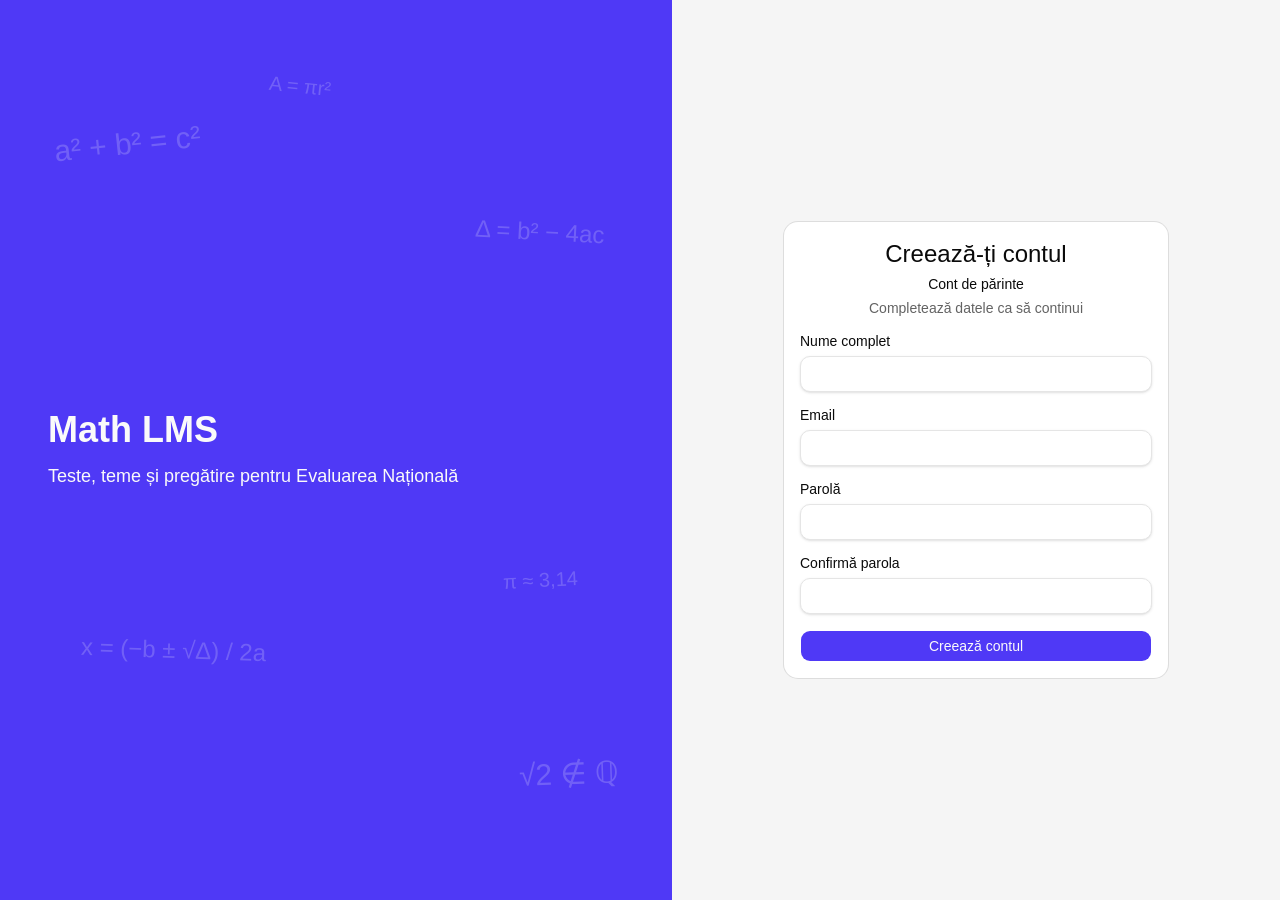
Test: RegisterPage › tells a newcomer through a role link that the teacher still approves
Expected: the text with test id "invite-headline" reads "Cont de părinte", [928, 276, 1024, 292]
Type "Ana Pop" into the field labelled "Nume complet" at (976, 374), box [800, 356, 1152, 392]
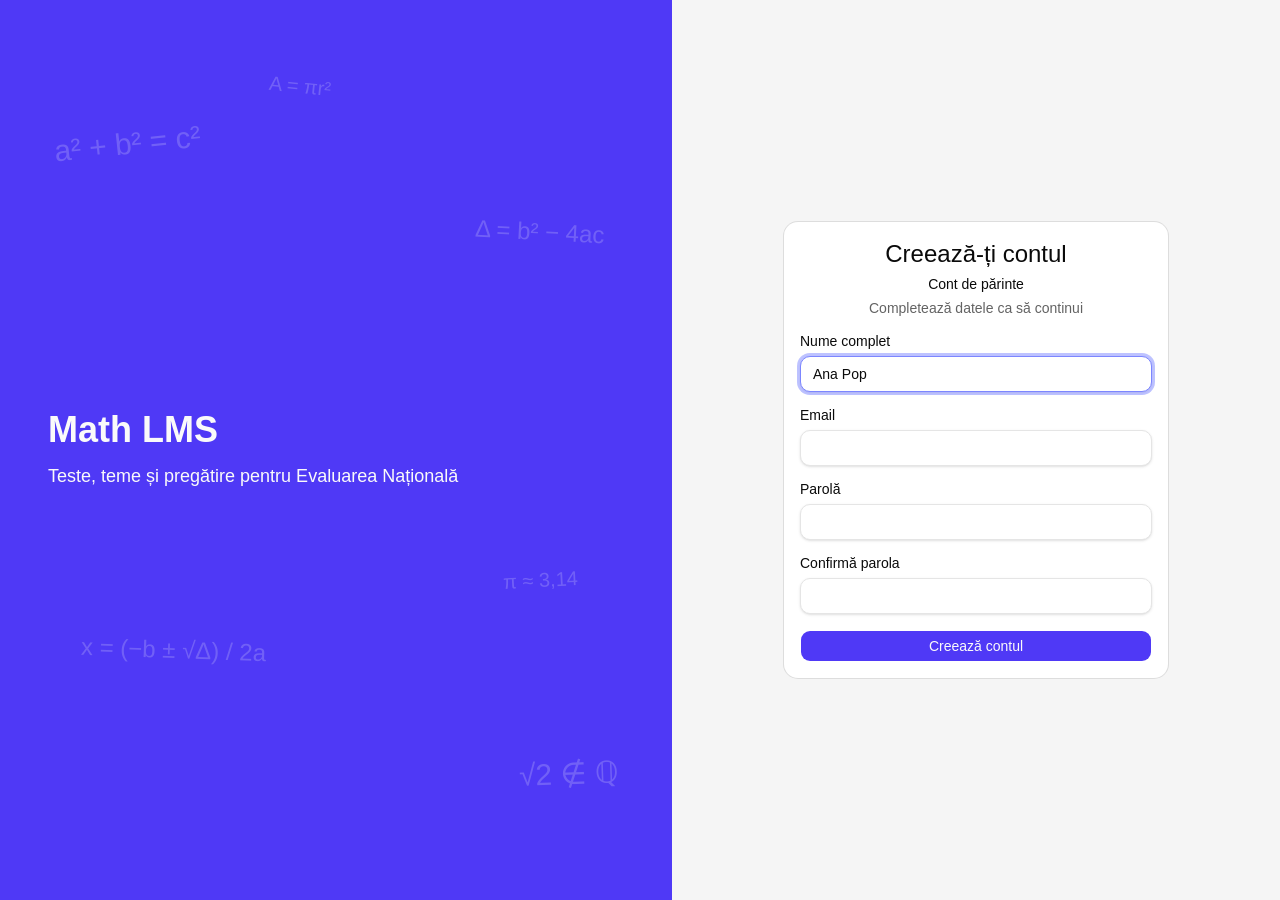
Type "ana@scoala.ro" into the field labelled "Email" at (976, 448), box [800, 430, 1152, 466]
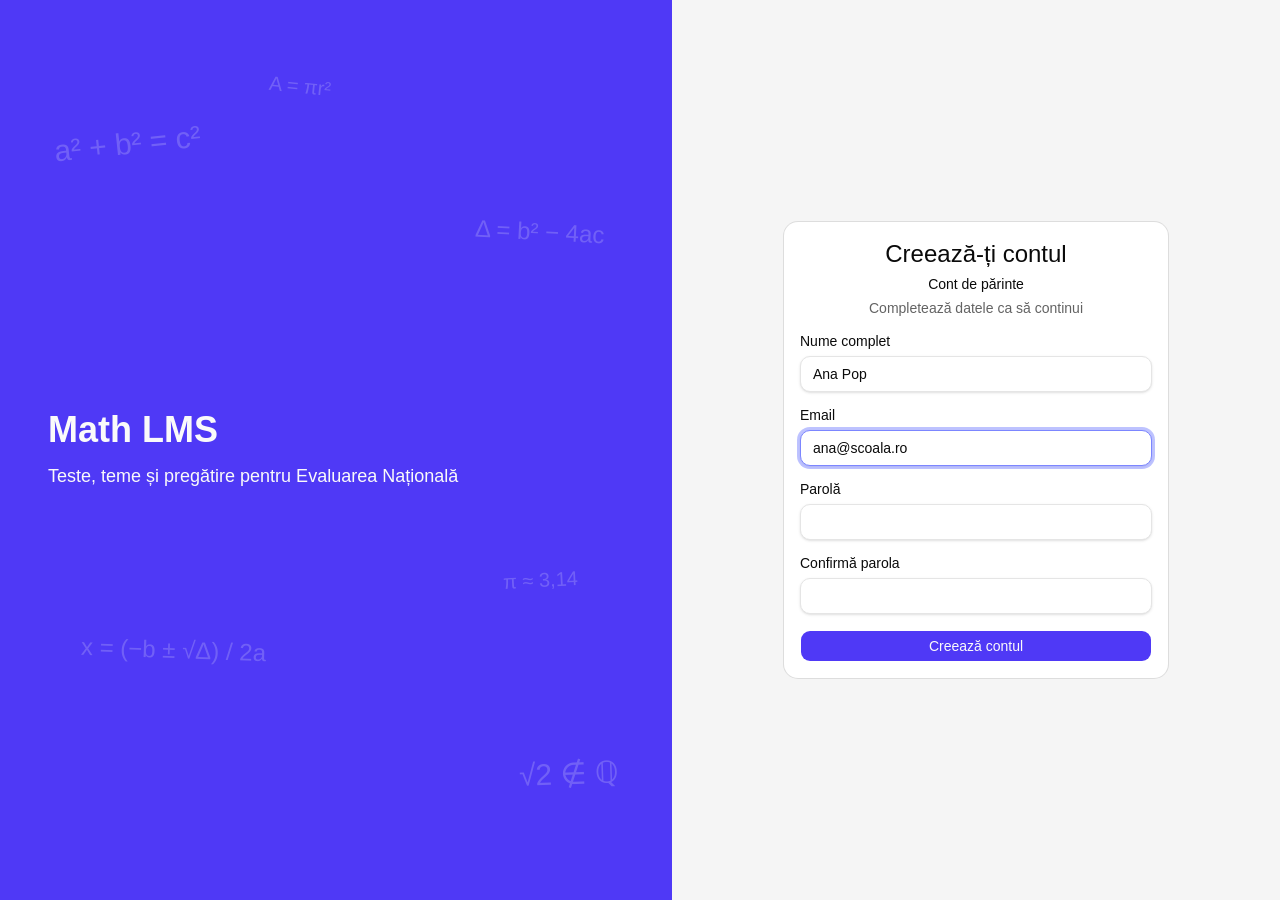
Type "parola123" into the password field labelled "Parolă" at (976, 522), box [800, 504, 1152, 540]
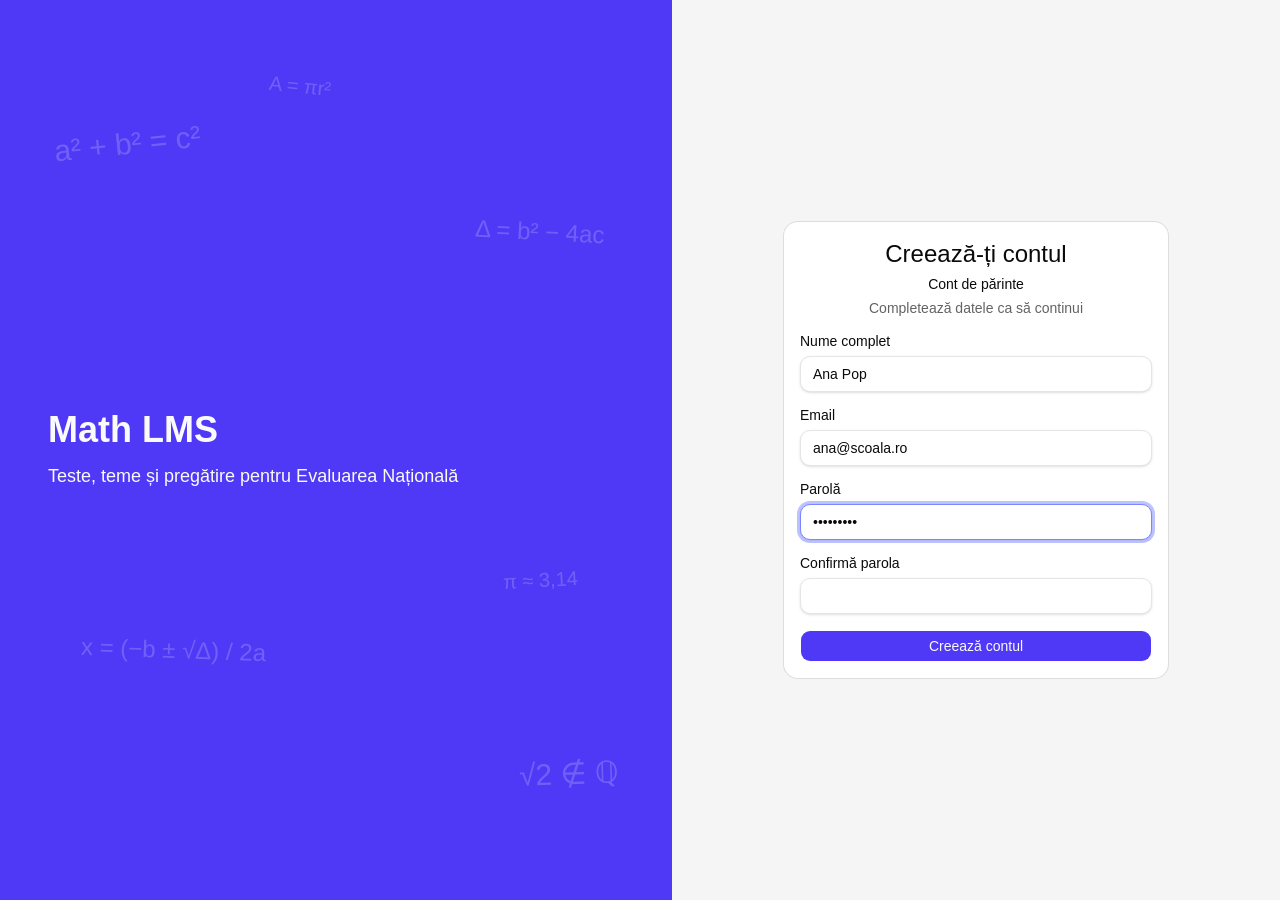
Type "parola123" into the password field labelled "Confirmă parola" at (976, 596), box [800, 578, 1152, 614]
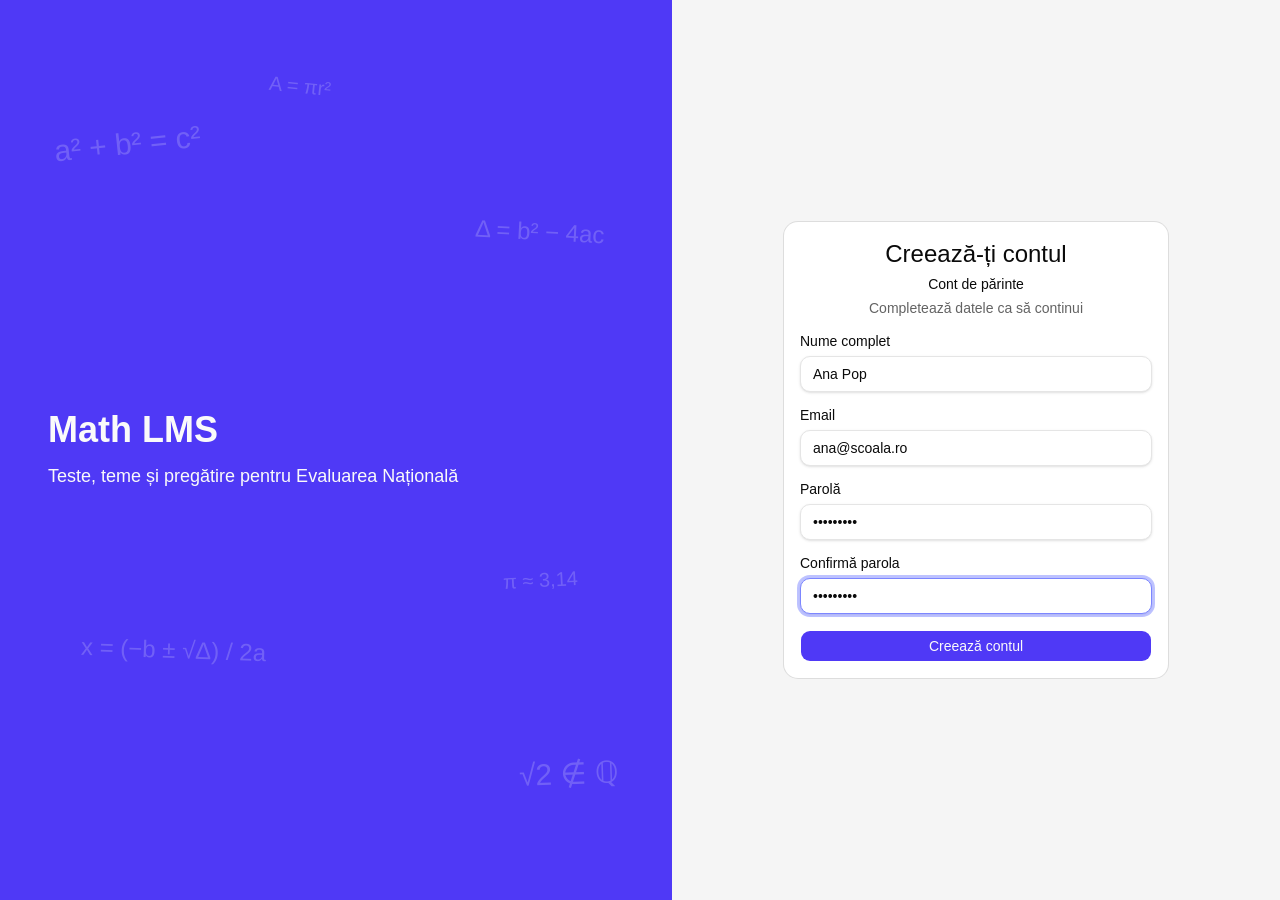
Click the button "Creează contul" at (976, 646), box [800, 630, 1152, 662]
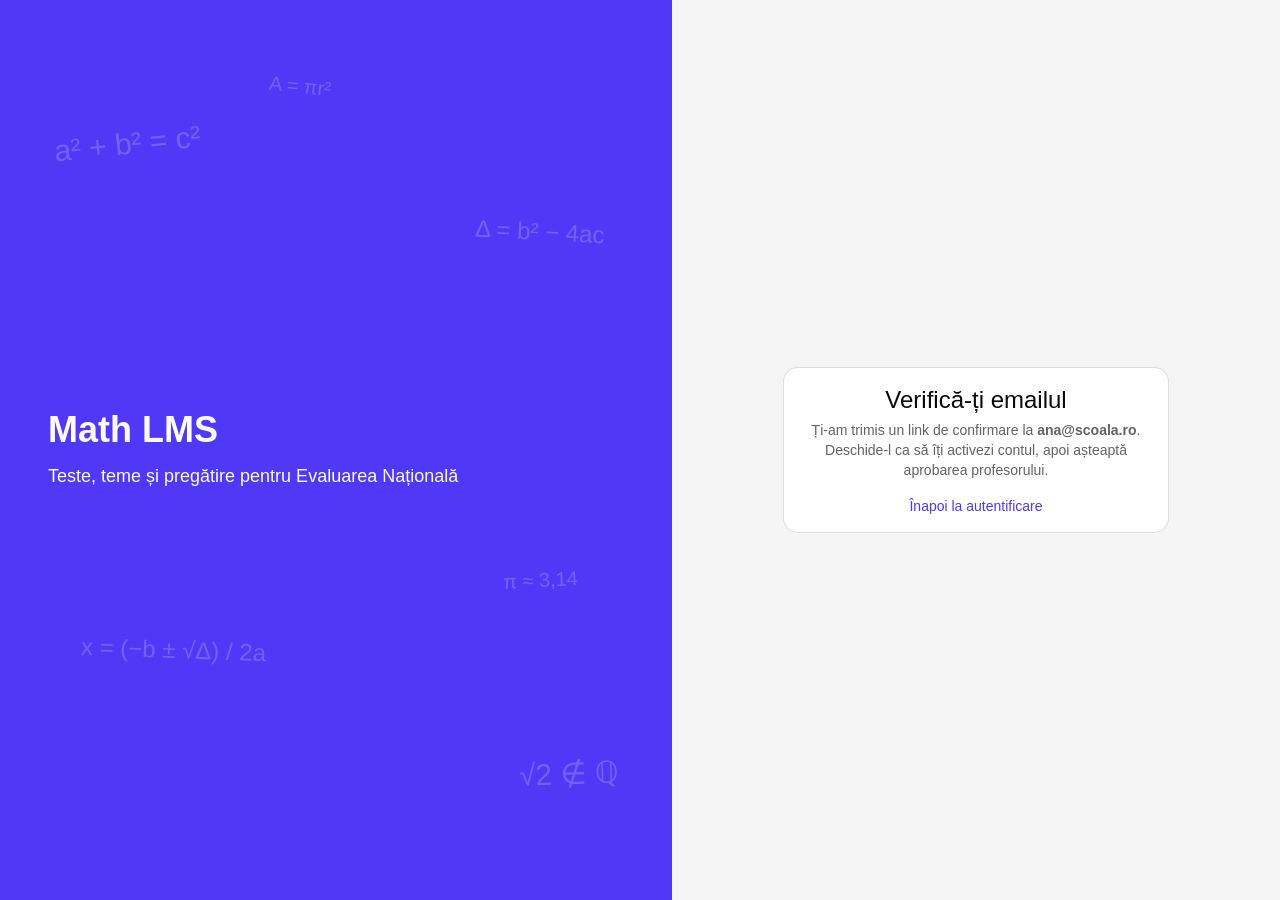
Result: the text "așteaptă aprobarea profesorului" is shown at [825, 442, 1127, 478]
